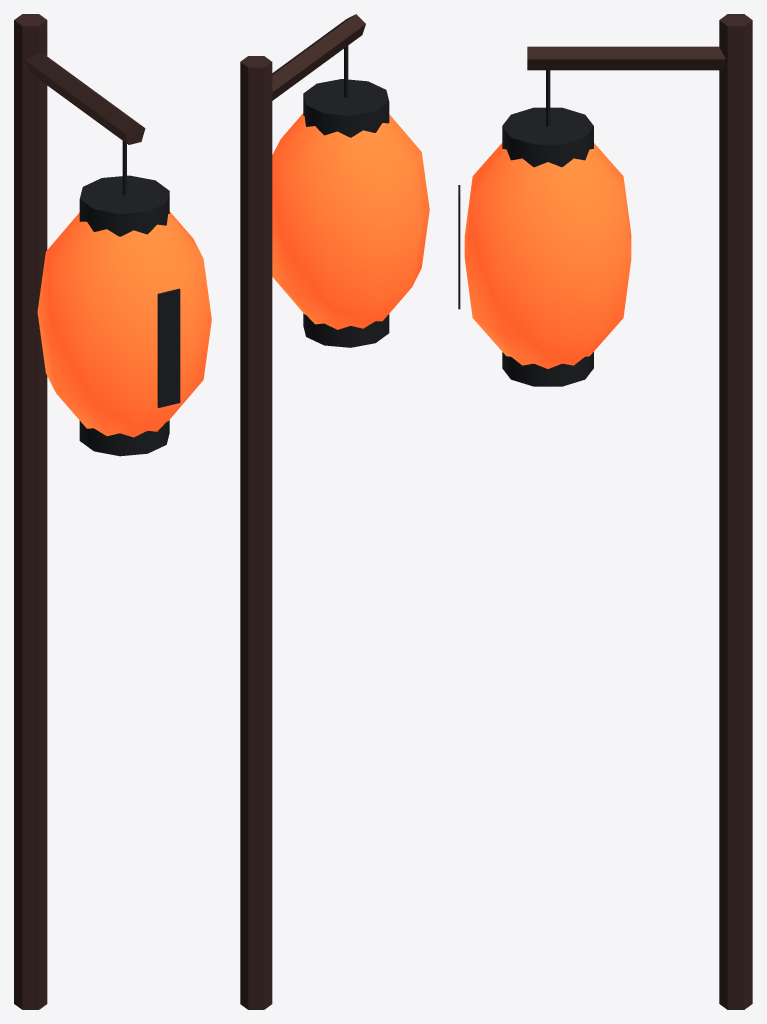
File: paper_lantern.glb
The picture shows the model from 3 angles, left to right: view 1: azimuth 30°, elevation 25°; view 2: azimuth 150°, elevation 25°; view 3: azimuth 270°, elevation 25°; orthographic projection. The views are drawn at different scales.
Visible parts, largest first — view 1: paper_lantern; view 2: paper_lantern; view 3: paper_lantern.
Part boxes in pixels (x1,y1,x2,y2): paper_lantern: (14, 14, 211, 1009); paper_lantern: (240, 14, 429, 1009); paper_lantern: (458, 14, 752, 1009).
Size of the model in its own units: 0.42 by 2.6 by 0.705.
